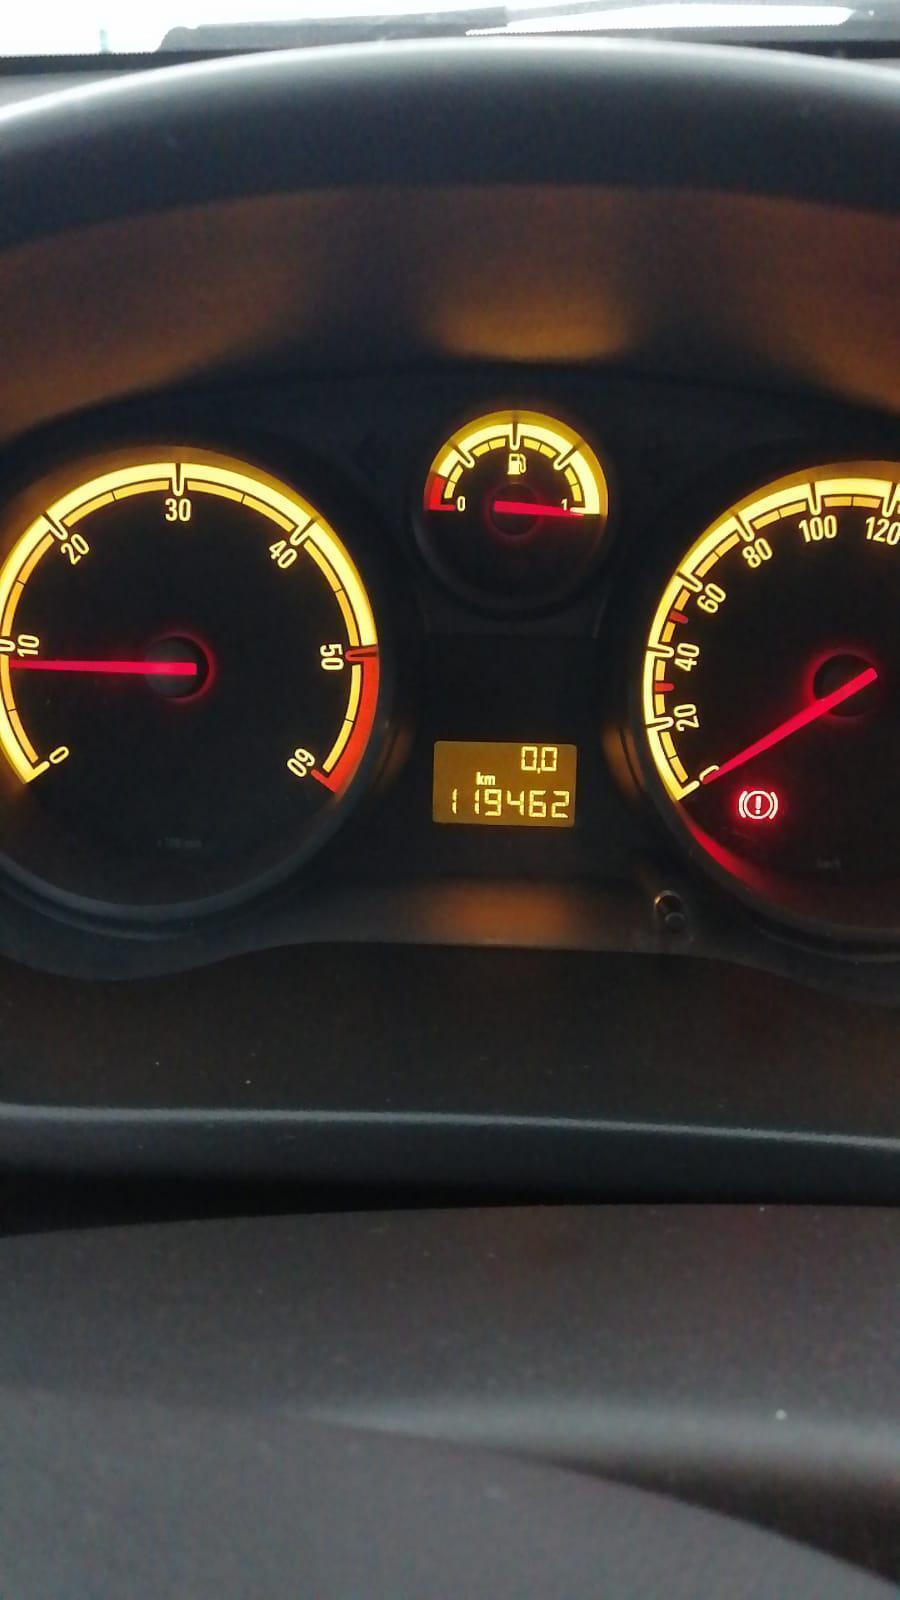,: (536, 767, 541, 775)
0: (540, 746, 558, 773), (520, 745, 538, 771)
1: (473, 788, 480, 815), (451, 787, 457, 815)
2: (549, 790, 570, 818)
4: (505, 789, 525, 816)
6: (527, 789, 547, 818)
9: (484, 788, 502, 816)
X: (484, 775, 496, 785), (475, 771, 484, 785)
odometer: (429, 738, 579, 830)
